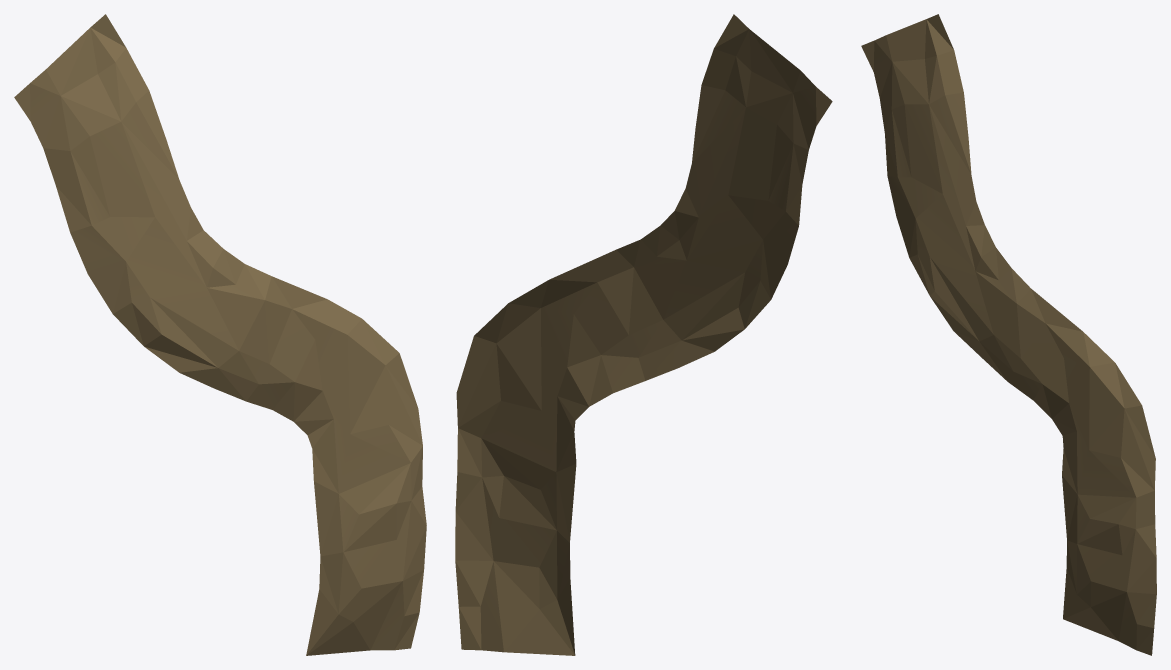
Rendered from Path.glb.
3 renders of one model, left to right at view 1: azimuth 30°, elevation 25°; view 2: azimuth 150°, elevation 25°; view 3: azimuth 330°, elevation 25°, orthographic. The views are drawn at different scales.
Parts seen in each view (by area): view 1: Path; view 2: Path; view 3: Path.
Part boxes in pixels (x1,y1,x2,y2): Path: (14,14,426,655); Path: (455,14,832,655); Path: (861,14,1156,655).
Bounding box in the file's own units: 7.11 × 12.12 × 1.21.
Materials: 1 (1 with a texture image).
